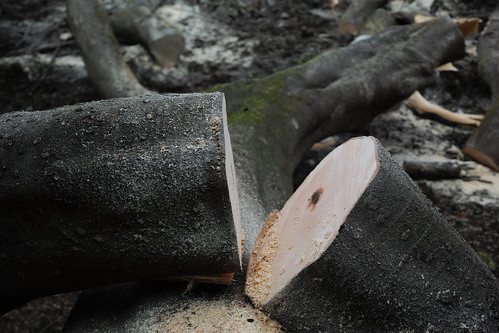tree trunk: (95, 17, 464, 333)
